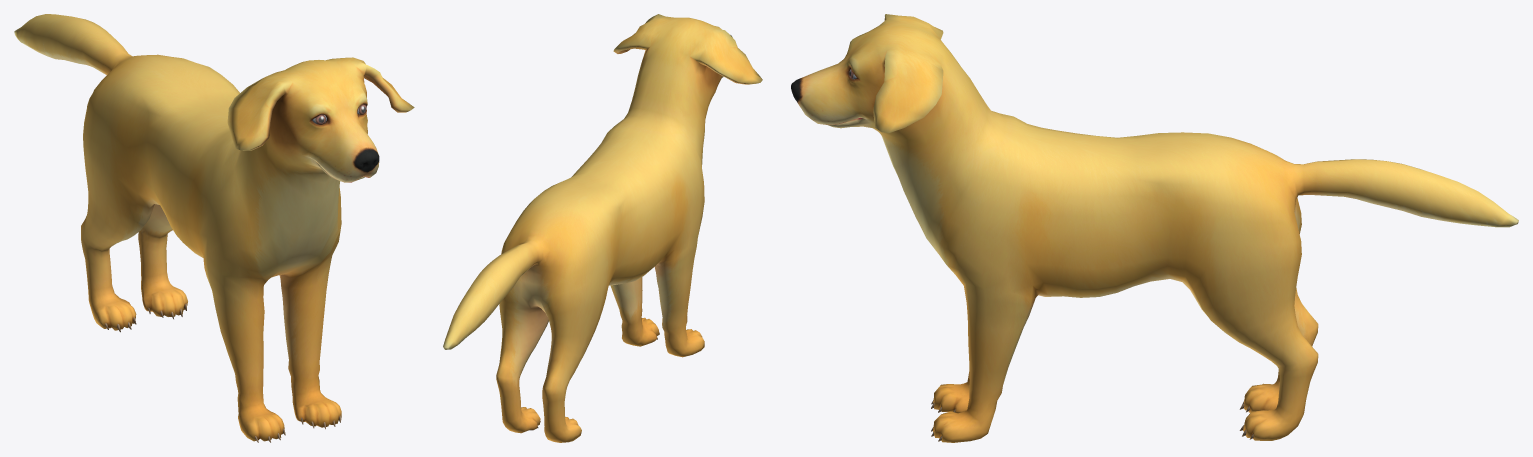
Rendered from Golden_Modelo.glb.
The picture shows the model from 3 angles, left to right: view 1: azimuth 30°, elevation 25°; view 2: azimuth 150°, elevation 25°; view 3: azimuth 270°, elevation 25°; orthographic projection. The views are drawn at different scales.
Visible parts, largest first — view 1: Cube; view 2: Cube; view 3: Cube.
Part boxes in pixels (x1,y1,x2,y2): Cube: (14,14,414,442); Cube: (443,14,762,442); Cube: (791,14,1518,442).
Size of the model in its own units: 0.3026 by 0.6299 by 1.06.
Materials: 1 (1 with a texture image).
